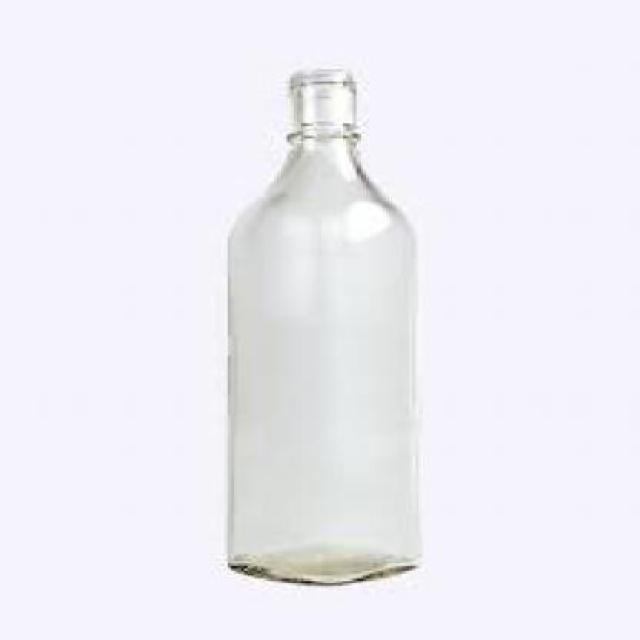kaca: (228, 65, 415, 583)
